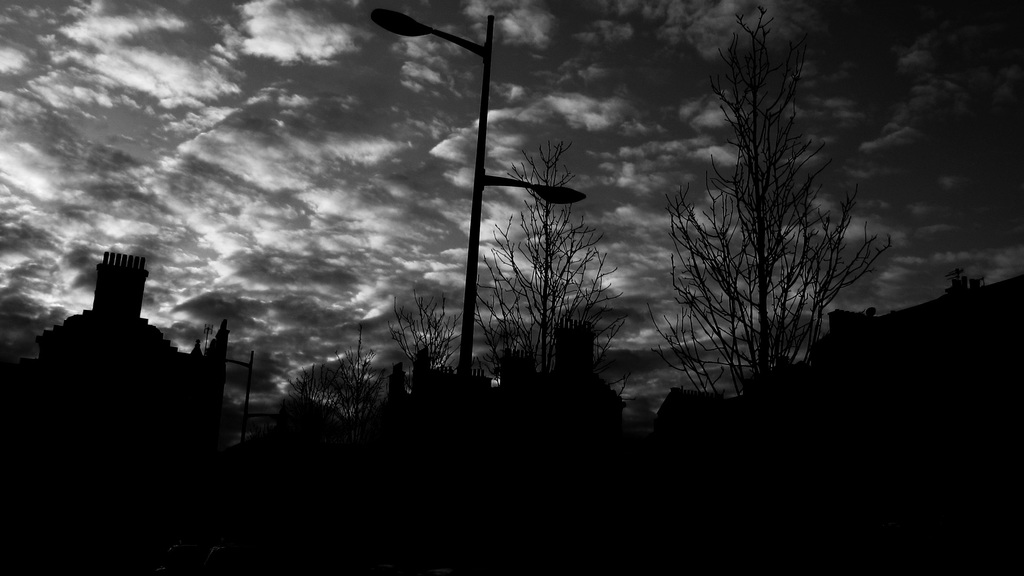Tree: (662, 21, 878, 412), (471, 139, 636, 403), (280, 323, 390, 424), (384, 286, 460, 376)
